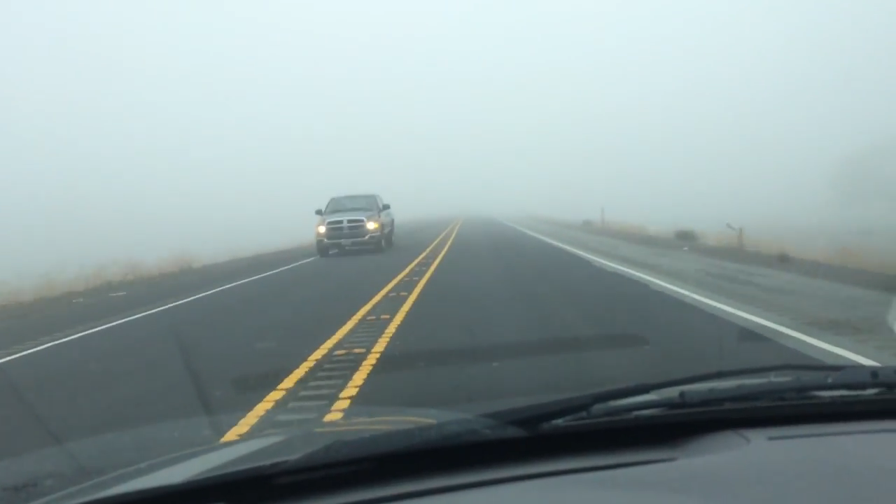car: (313, 191, 395, 257)
